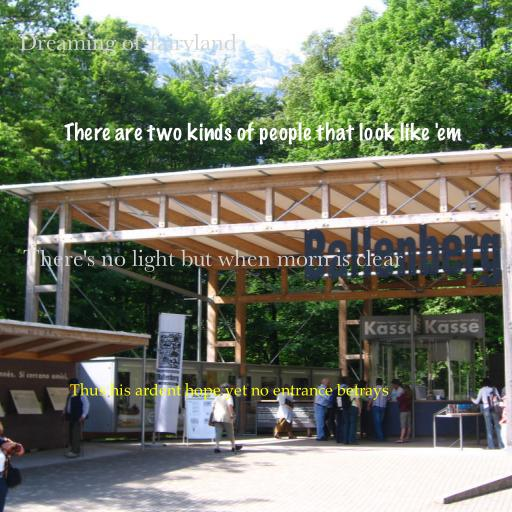Baskerville: (23, 249, 403, 272), (19, 33, 237, 56)
Marker Felt: (64, 122, 462, 145)
Palatino: (69, 382, 389, 400)
